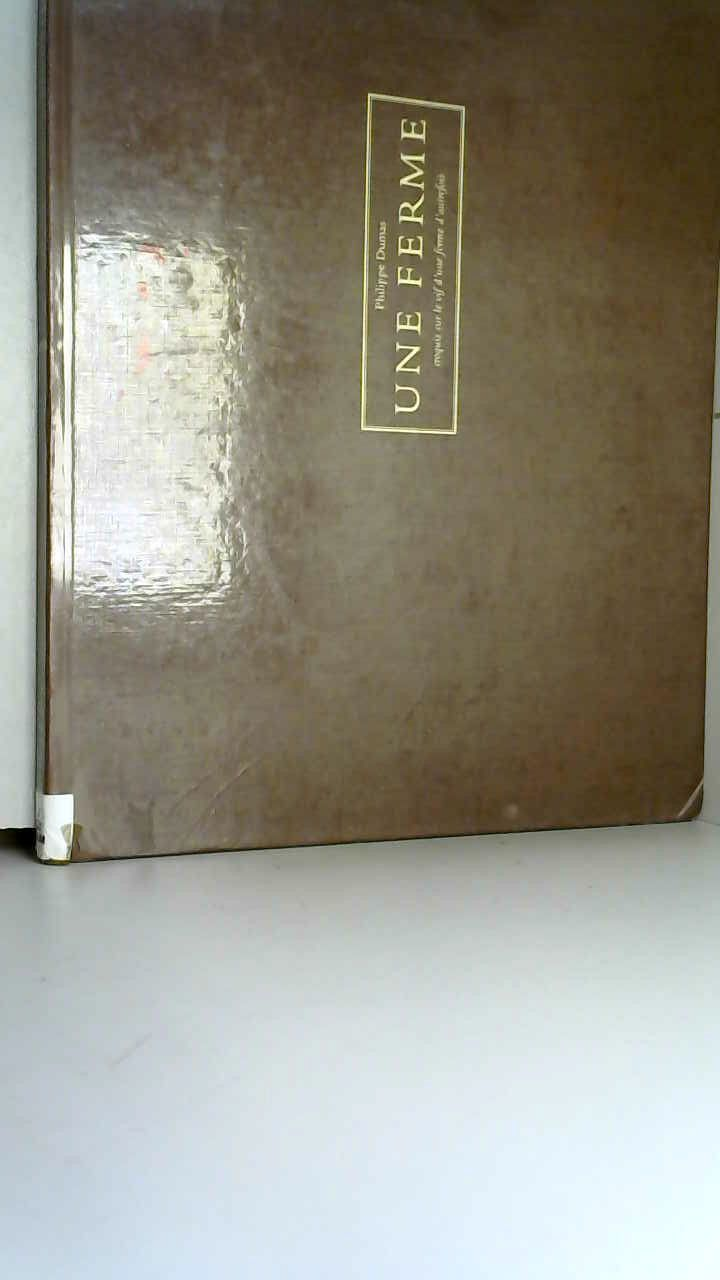book: (17, 0, 720, 876)
